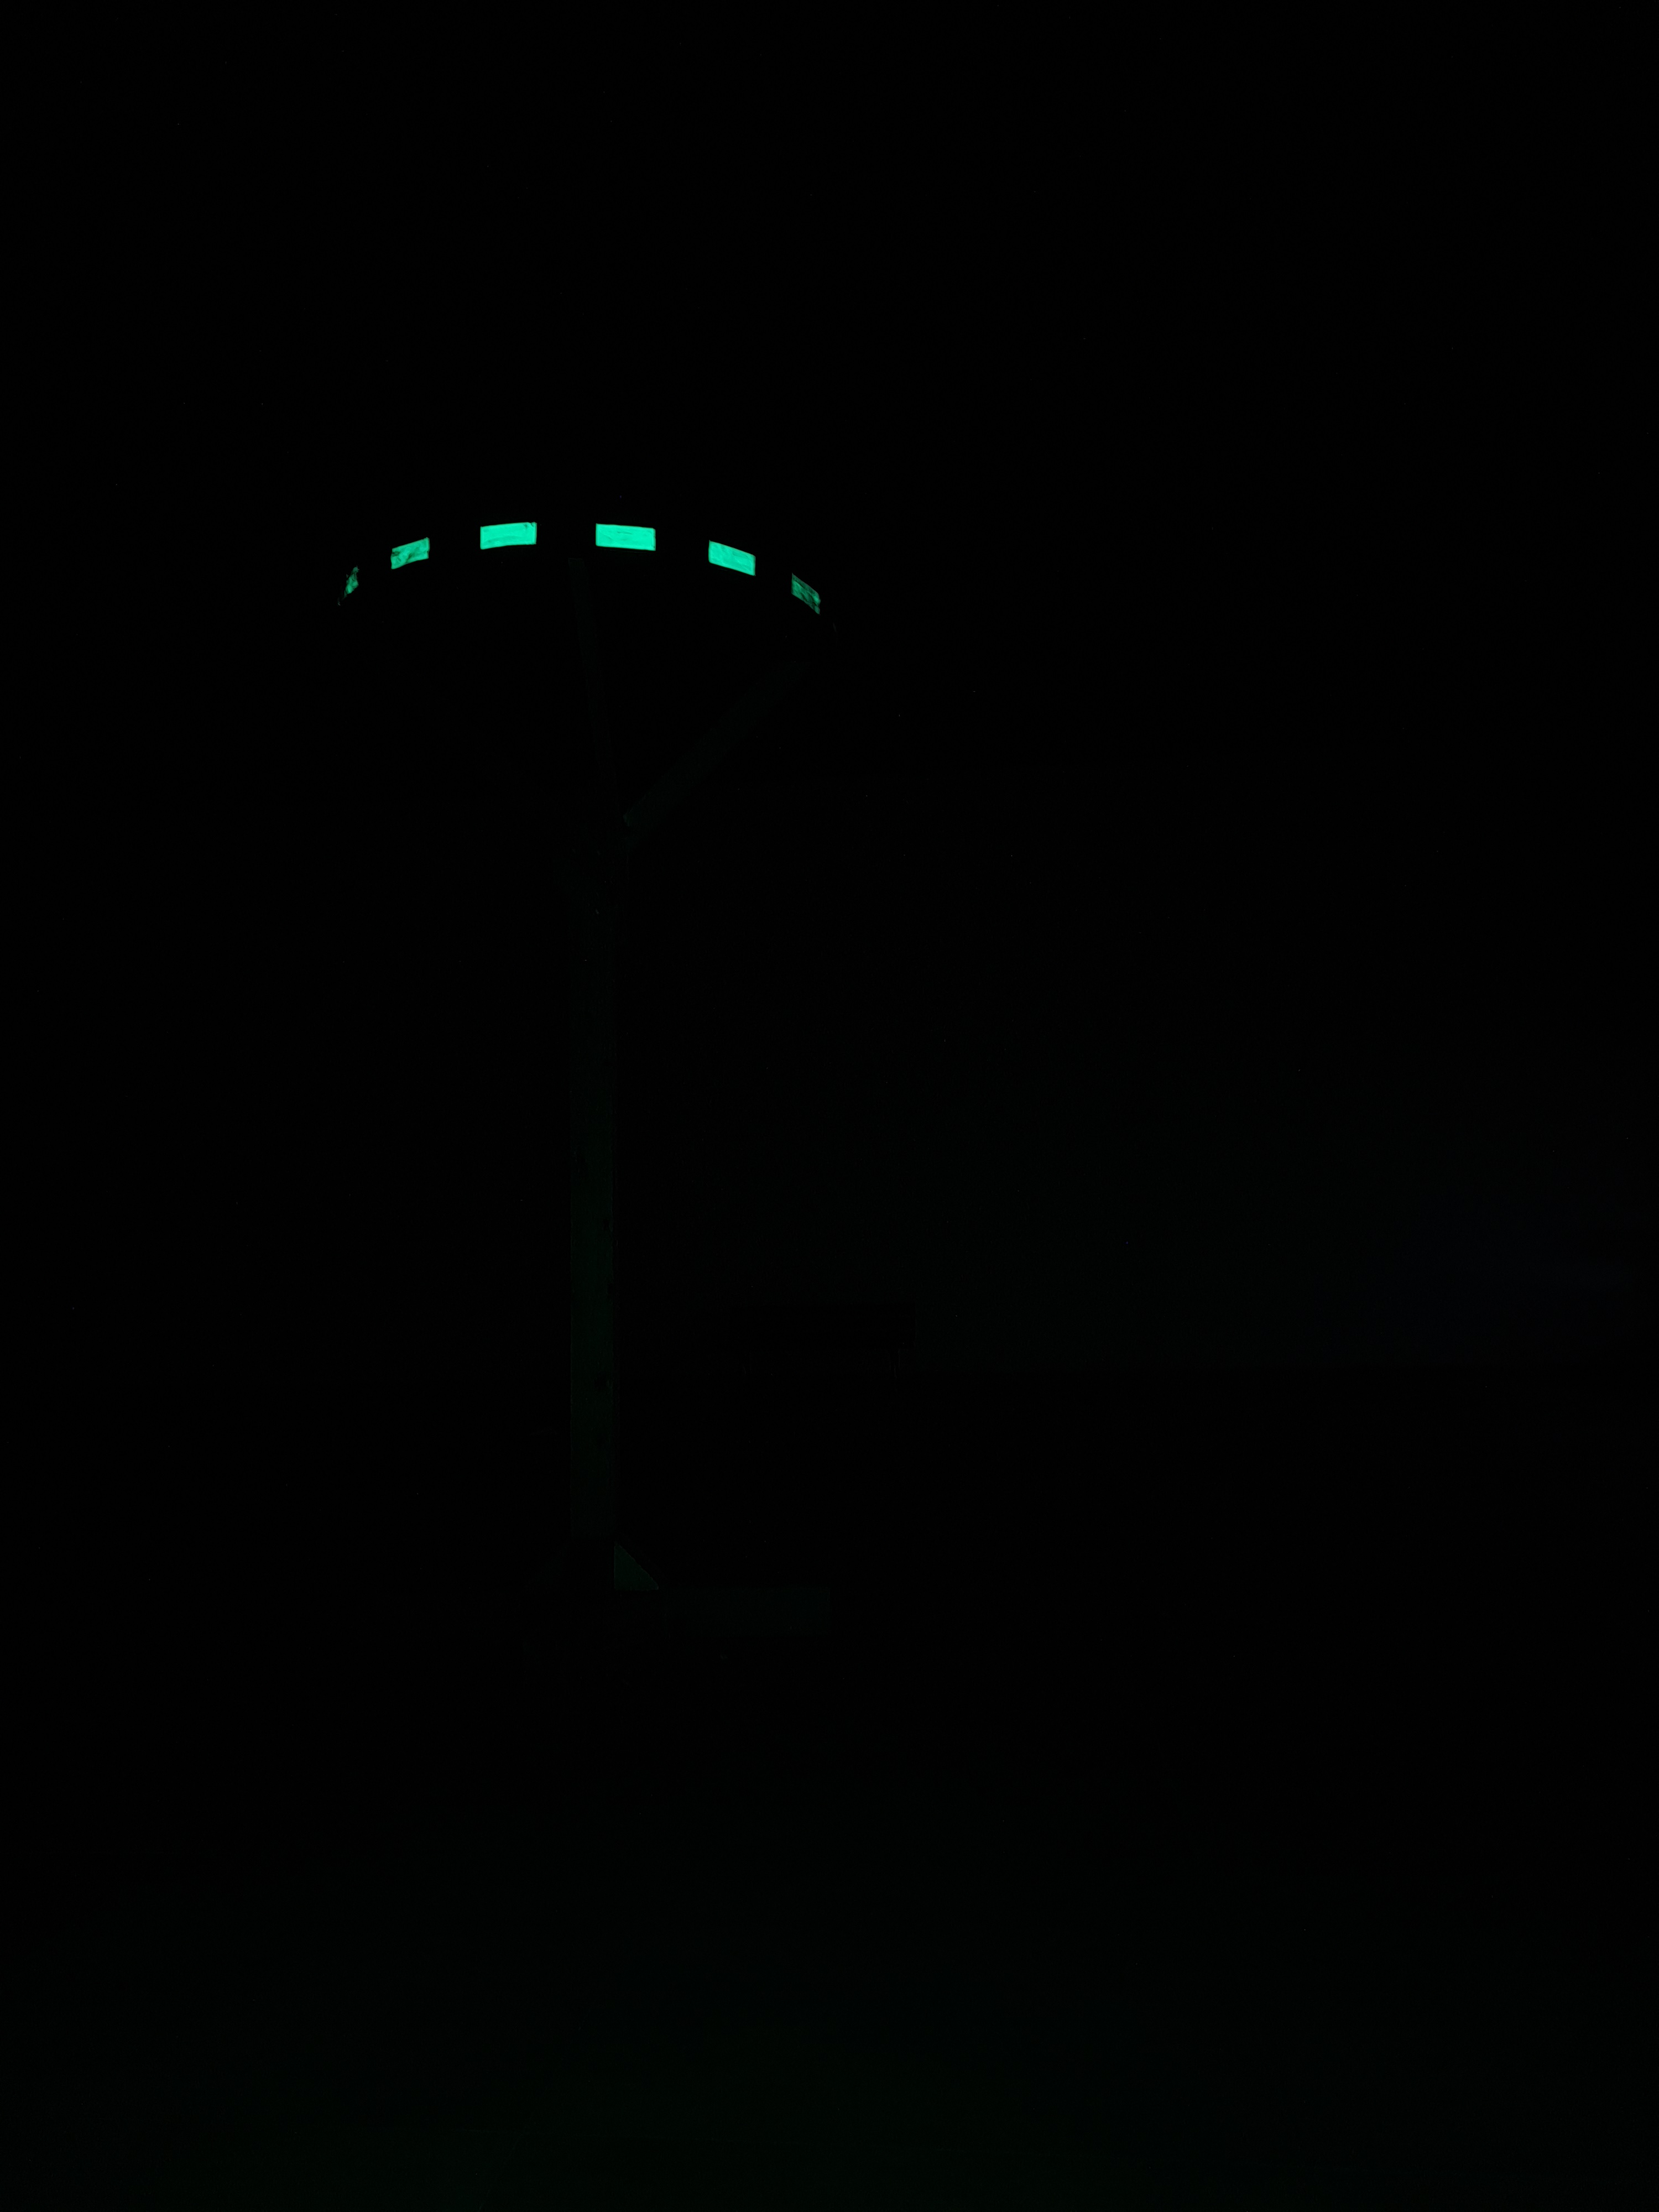hoop: (328, 512, 828, 625)
